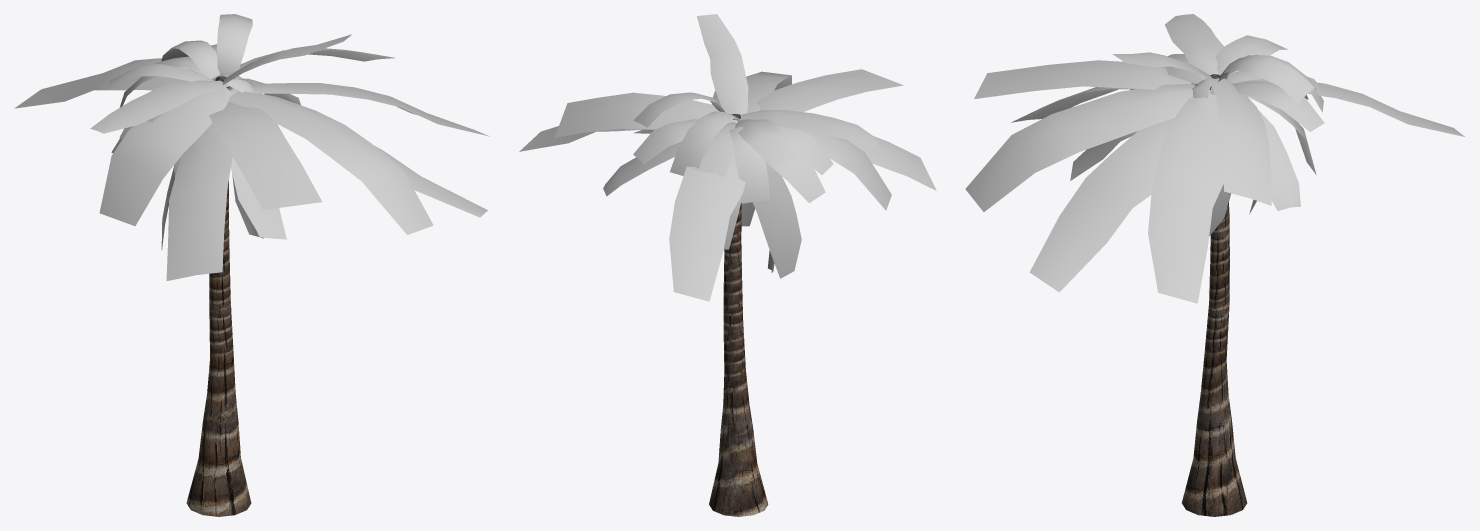
The model's file is pfpalm00.fbx.
3 views of the same model, side by side, from view 1: azimuth 30°, elevation 25°; view 2: azimuth 150°, elevation 25°; view 3: azimuth 270°, elevation 25° (orthographic). The views are drawn at different scales.
Visible parts, largest first — view 1: leaves__2, mopalm02; view 2: leaves__2, mopalm02; view 3: leaves__2, mopalm02.
Boxes of the visible parts, x1,y1,x2,y2 form: leaves__2: (14, 14, 489, 280); mopalm02: (186, 76, 251, 516); leaves__2: (519, 14, 936, 301); mopalm02: (709, 114, 768, 516); leaves__2: (965, 14, 1464, 303); mopalm02: (1182, 74, 1247, 516).
Bounding box in the file's own units: 39.61 × 46.82 × 43.72.
